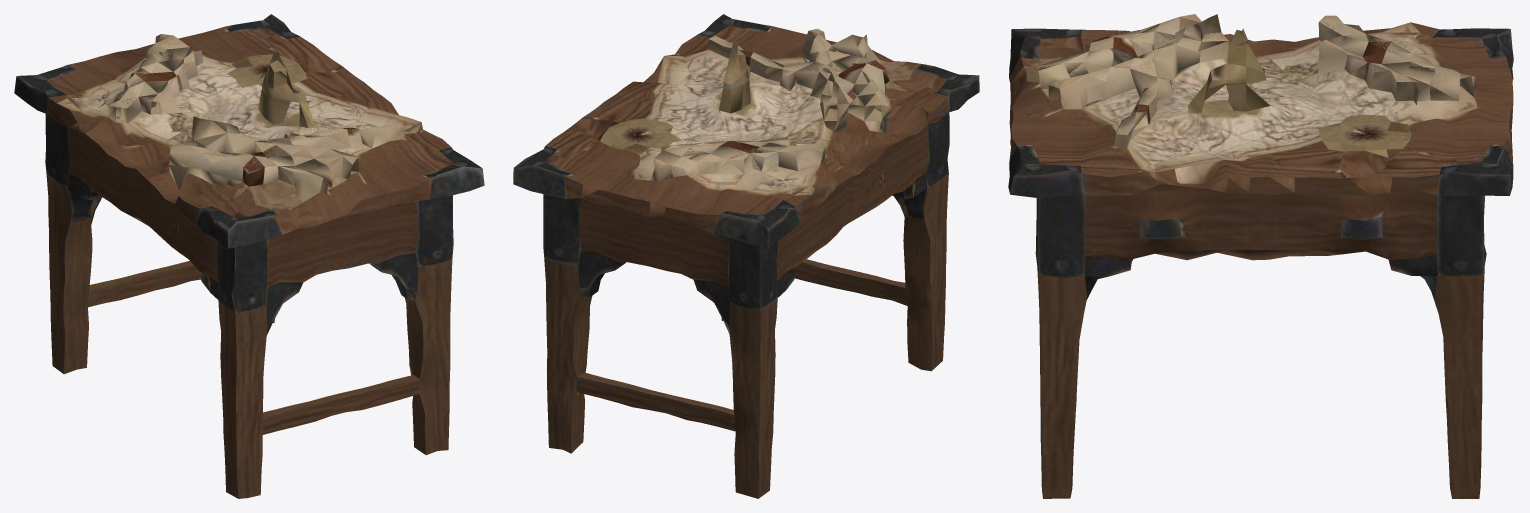
The model's file is table_cartes.glb.
The picture shows the model from 3 angles, left to right: view 1: azimuth 30°, elevation 25°; view 2: azimuth 150°, elevation 25°; view 3: azimuth 270°, elevation 25°; orthographic projection. The views are drawn at different scales.
Visible parts, largest first — view 1: table_cartes; view 2: table_cartes; view 3: table_cartes.
Boxes of the visible parts, bbox=[...] form: table_cartes: bbox=[14, 14, 484, 498]; table_cartes: bbox=[513, 14, 979, 498]; table_cartes: bbox=[1008, 14, 1513, 498].
Bounding box in the file's own units: 0.7985 × 1.05 × 1.15.
1 material, 1 textured.
